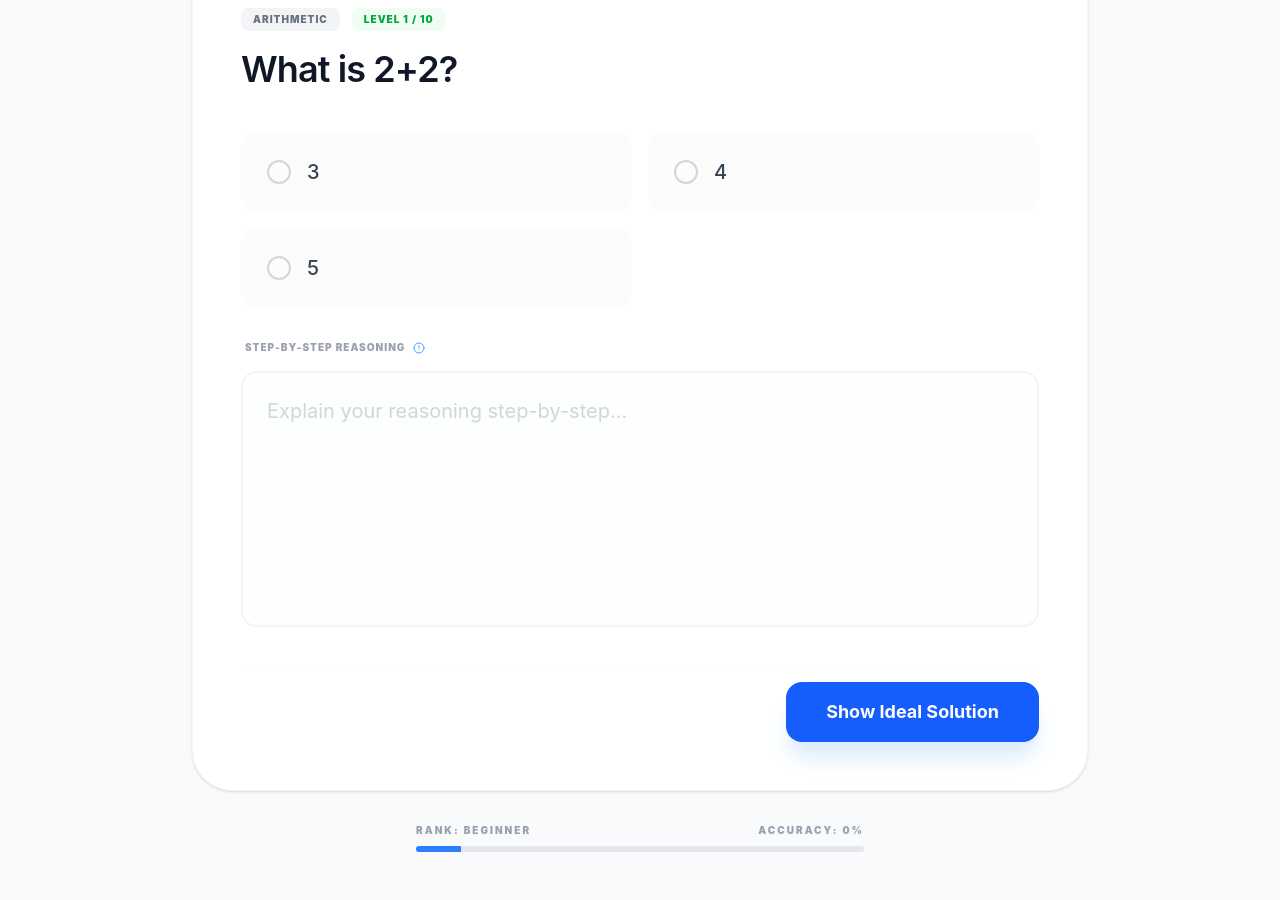
Test case: Blind Mode & Mandatory Reasoning › should show validation message if reasoning is empty on submit
(page scrolled)
Step 1. Click the button "Show Ideal Solution" → {"x": 913, "y": 712}, box x1=786 y1=682 x2=1039 y2=742
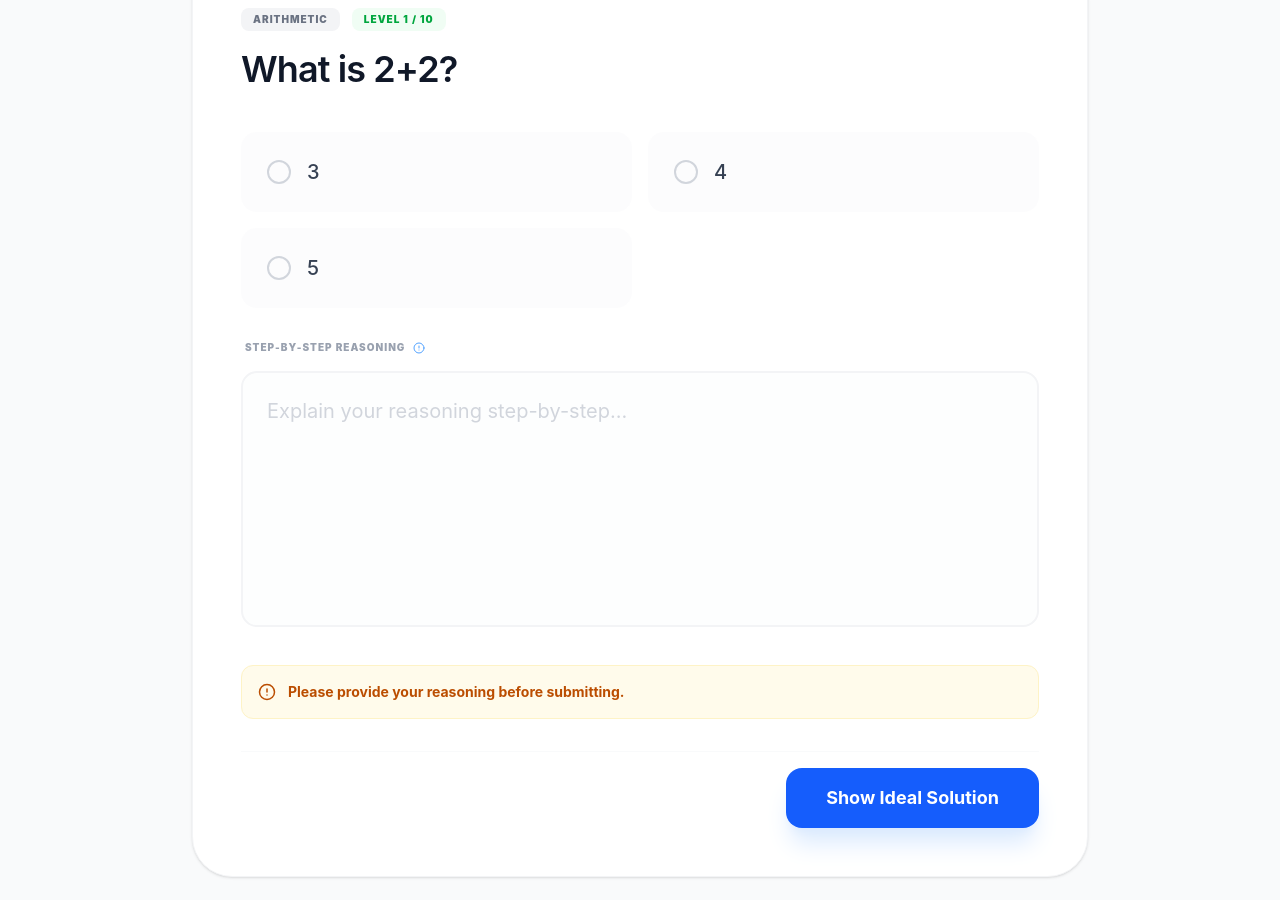
Expected: the text "Please provide your reasoning before submitting." is shown, x1=288 y1=682 x2=624 y2=702
